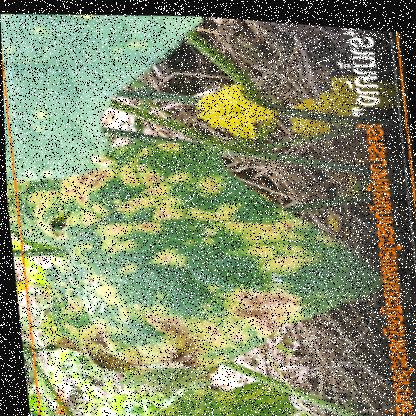DownyMildew: (26, 144, 321, 331), (37, 241, 295, 358)
